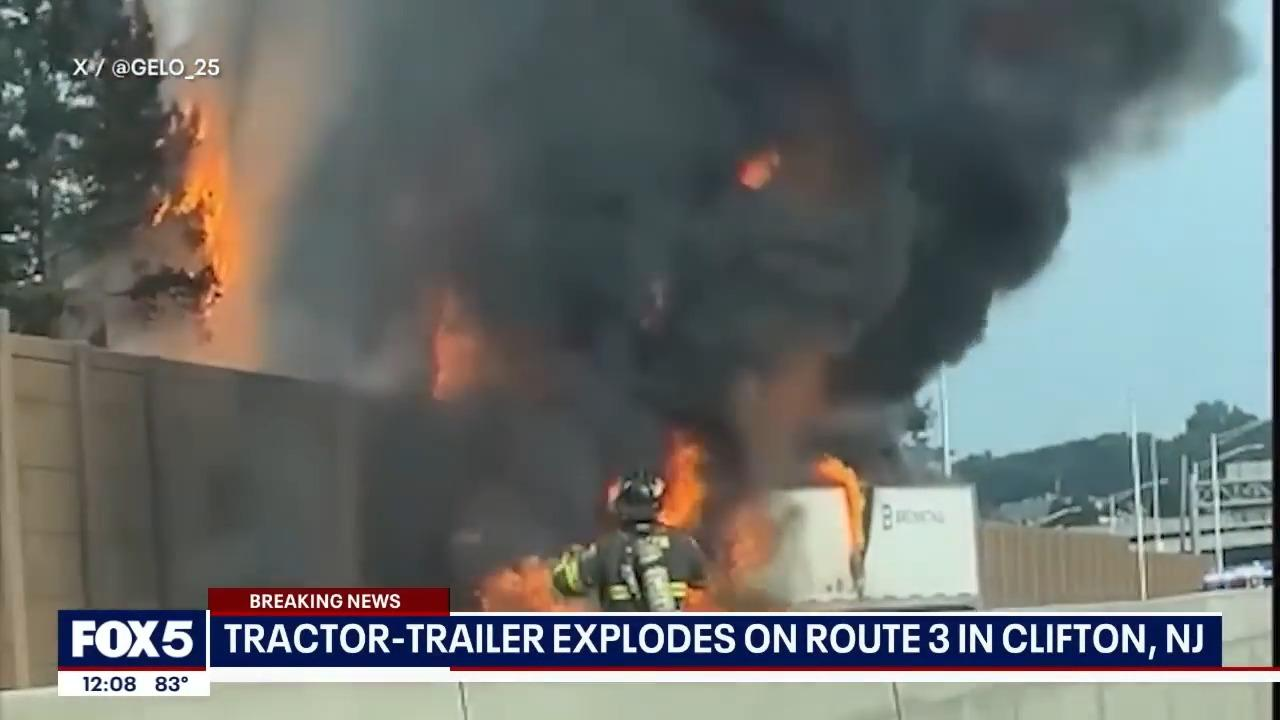fire: (157, 113, 253, 311), (661, 433, 729, 532)
